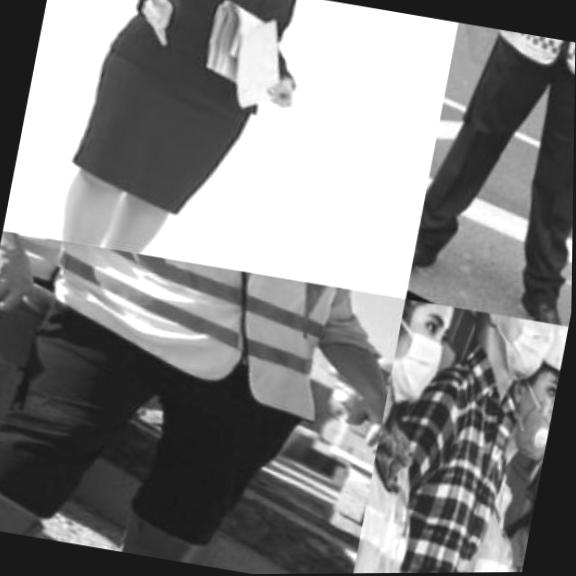safety_vest: (0, 227, 395, 445), (349, 372, 485, 573), (399, 467, 537, 573), (455, 23, 576, 107), (444, 507, 531, 573)
